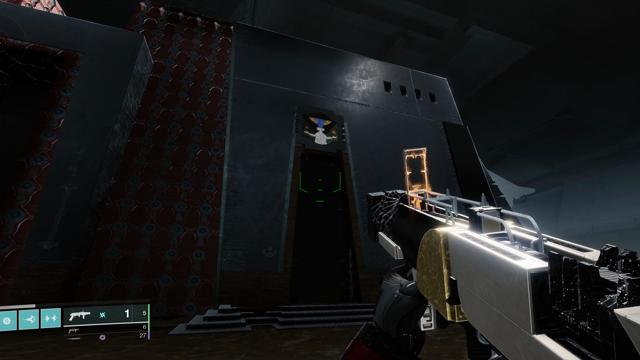drink: (301, 113, 340, 147)
